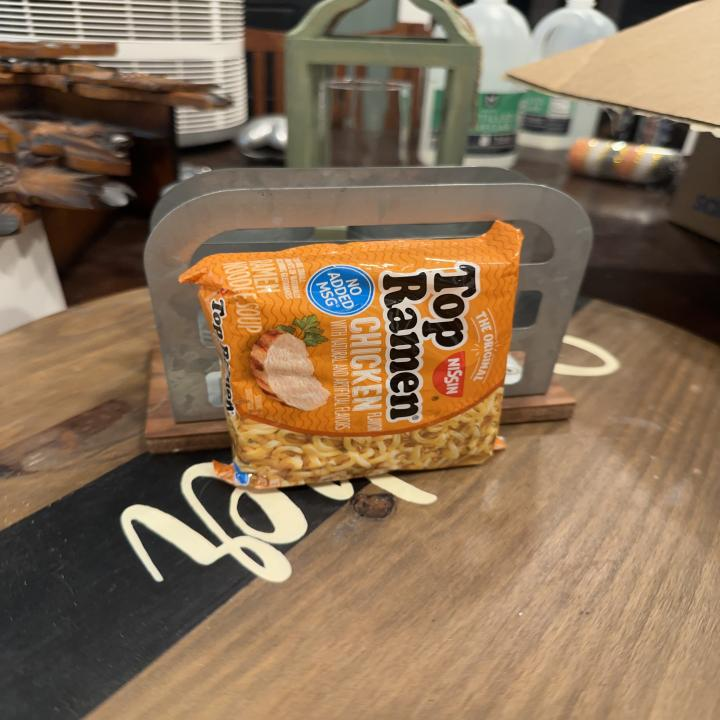Ramen: (179, 217, 525, 493)
